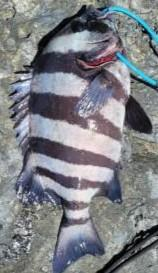fish: (14, 6, 152, 272)
